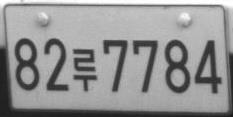2: (43, 37, 69, 92)
4: (194, 39, 222, 93)
7: (132, 39, 158, 93), (102, 39, 128, 92)
8: (163, 38, 191, 94), (14, 37, 39, 91)
루: (72, 47, 97, 91)
